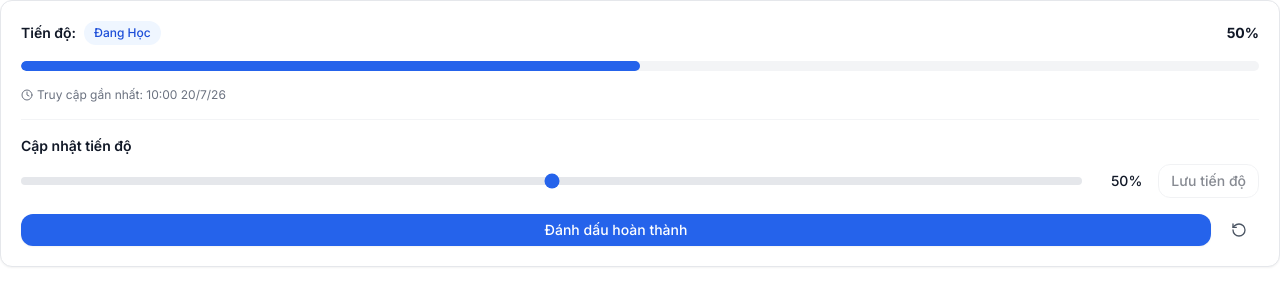
Scenario: LearningProgressControls › Manual editor › resets dirty state and syncs draft on success
The image size is (1280, 284).
Set the slider to "80" at [865, 181], box [21, 177, 1082, 185]
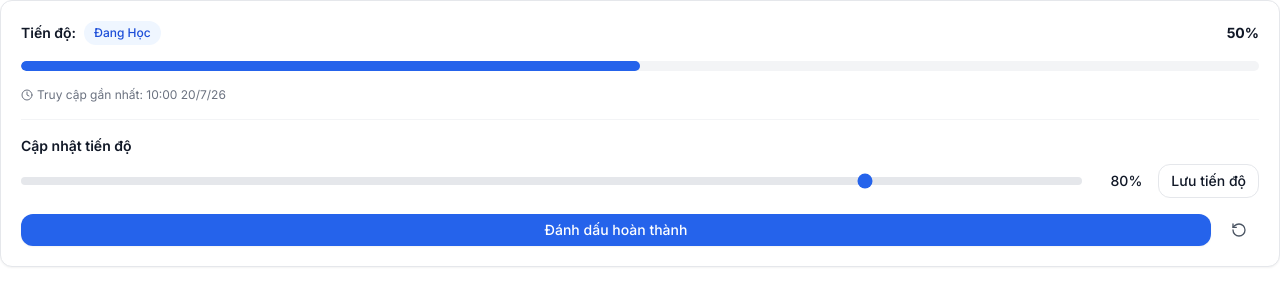
Click the button "Lưu tiến độ" at [1209, 181], box [1158, 164, 1259, 198]
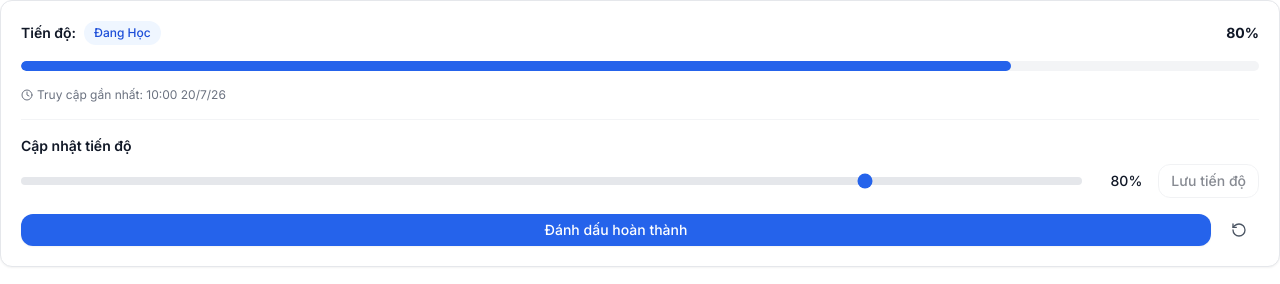
Now the button "Lưu tiến độ" is disabled, box [1158, 164, 1259, 198]
